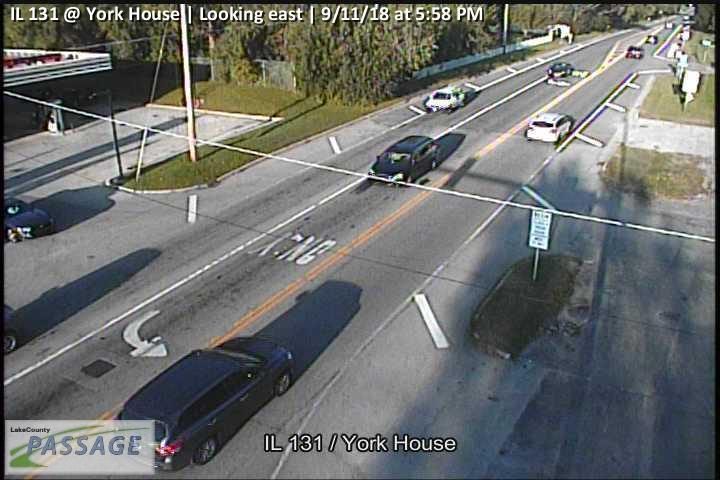SUV: (105, 334, 295, 473), (367, 133, 442, 184)
Sedan: (524, 113, 572, 145), (424, 87, 465, 112), (548, 61, 575, 77)
